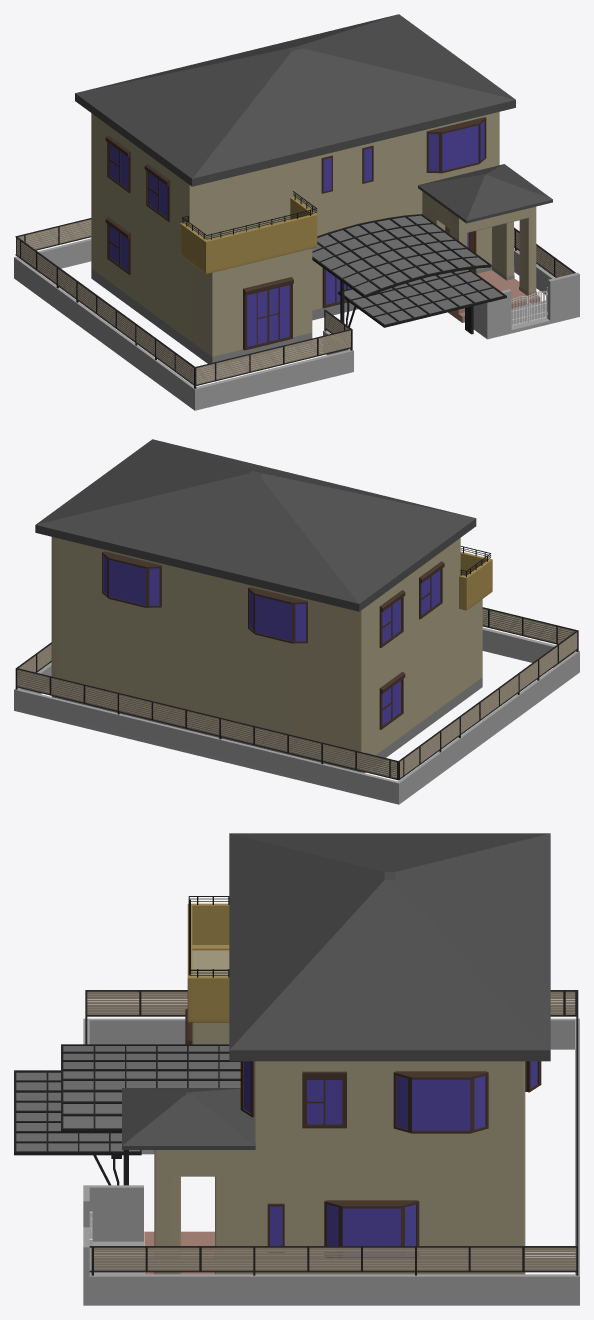
Rendered from House_001_high.fbx.
The picture shows the model from 3 angles, top to bottom: view 1: azimuth 30°, elevation 25°; view 2: azimuth 150°, elevation 25°; view 3: azimuth 270°, elevation 25°; orthographic projection. The views are drawn at different scales.
Parts seen in each view (by area): view 1: House_001_high1; view 2: House_001_high1; view 3: House_001_high1.
Part boxes in pixels (left/top/right/bottom): House_001_high1: left=14, top=14, right=579, bottom=410; House_001_high1: left=14, top=439, right=579, bottom=804; House_001_high1: left=14, top=833, right=579, bottom=1305.
Size of the model in its own units: 1239 by 706 by 1149.
